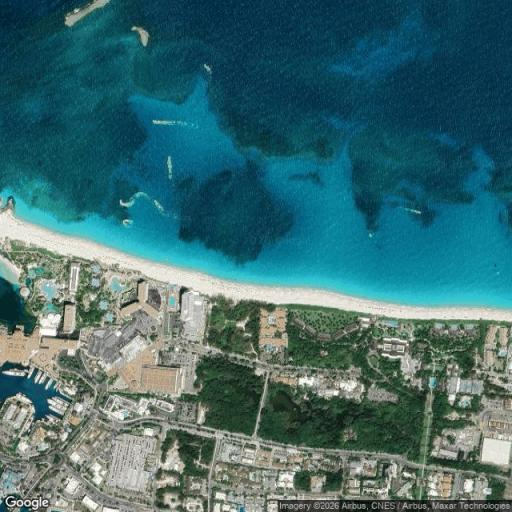ship: (48, 397, 68, 415), (23, 414, 36, 434), (54, 397, 69, 411), (53, 396, 68, 408), (16, 393, 34, 403), (2, 369, 27, 376), (49, 404, 63, 415), (45, 414, 59, 424), (37, 372, 46, 384), (35, 370, 43, 383), (45, 378, 53, 389), (28, 367, 35, 378), (37, 372, 44, 383), (40, 374, 47, 384), (34, 368, 38, 383), (31, 404, 36, 414), (53, 382, 59, 389), (34, 374, 37, 383)
